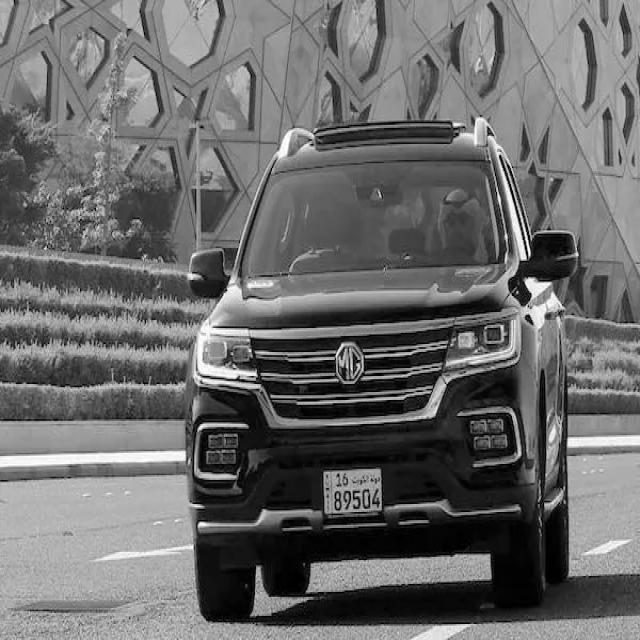licenseplate: (322, 467, 385, 515)
